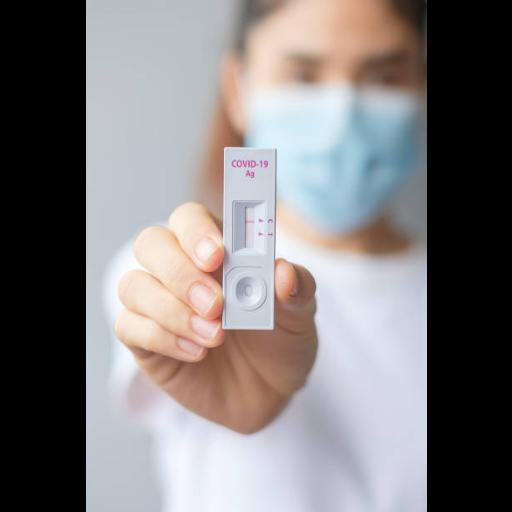Neg: (223, 149, 275, 329)
